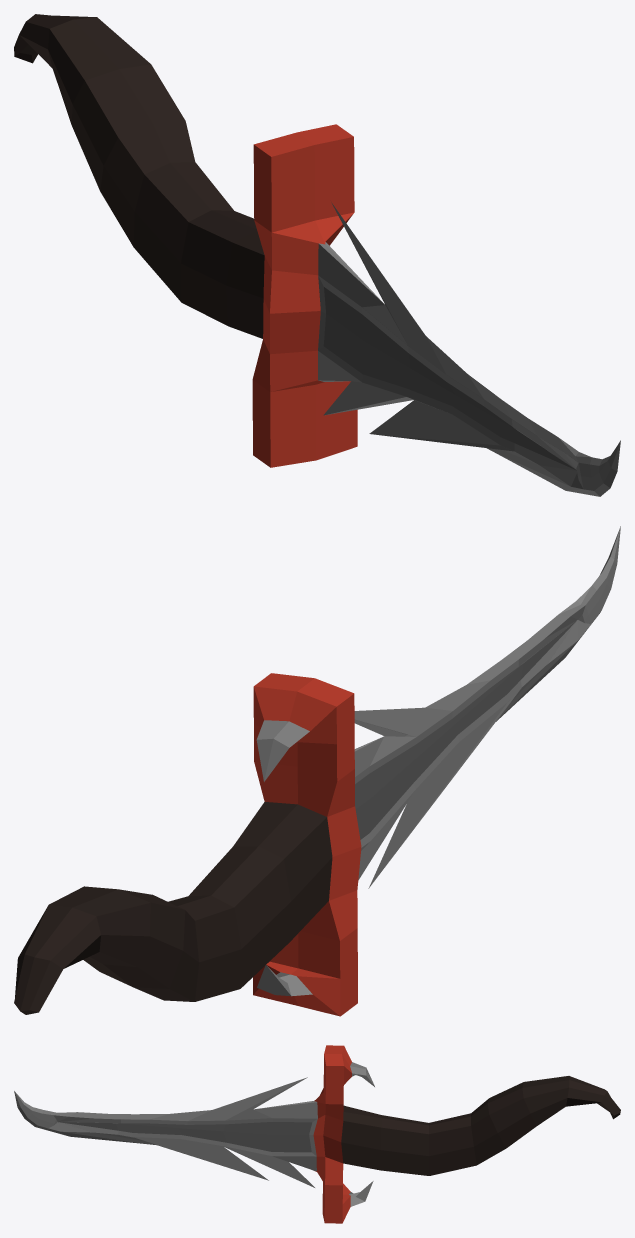
The model's file is VampireDagger.glb.
3 views of the same model, one above another, from view 1: azimuth 30°, elevation 25°; view 2: azimuth 150°, elevation 25°; view 3: azimuth 270°, elevation 25° (orthographic). The views are drawn at different scales.
Parts seen in each view (by area): view 1: Cube; view 2: Cube; view 3: Cube.
Part boxes in pixels (x1=…): Cube: x1=14, y1=14, x2=620, y2=496; Cube: x1=14, y1=526, x2=620, y2=1016; Cube: x1=14, y1=1045, x2=620, y2=1223.
Bounding box in the file's own units: 0.0392 × 0.1322 × 0.4553.
